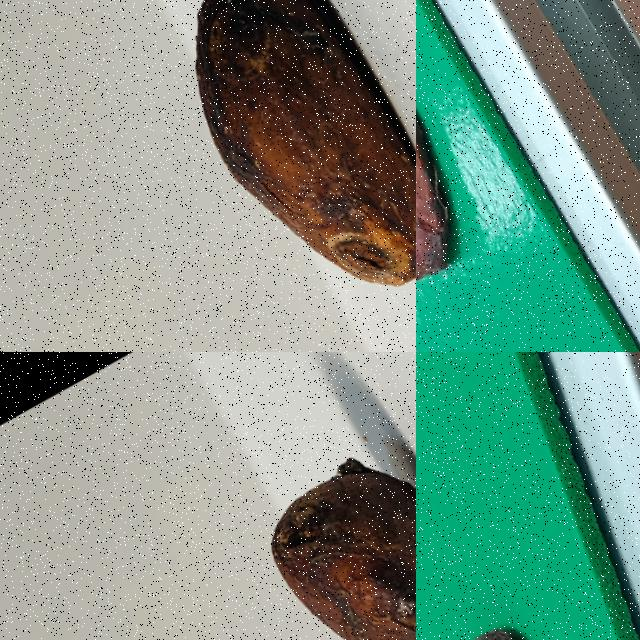Fine_cocoabeans: (75, 0, 415, 351), (184, 373, 415, 639)
Flat_cocoabeans: (416, 53, 554, 351)
